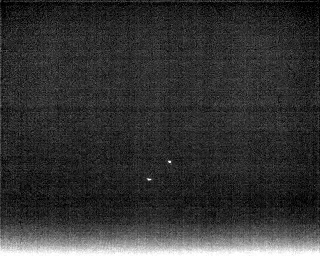BIRD: (166, 157, 174, 167)
